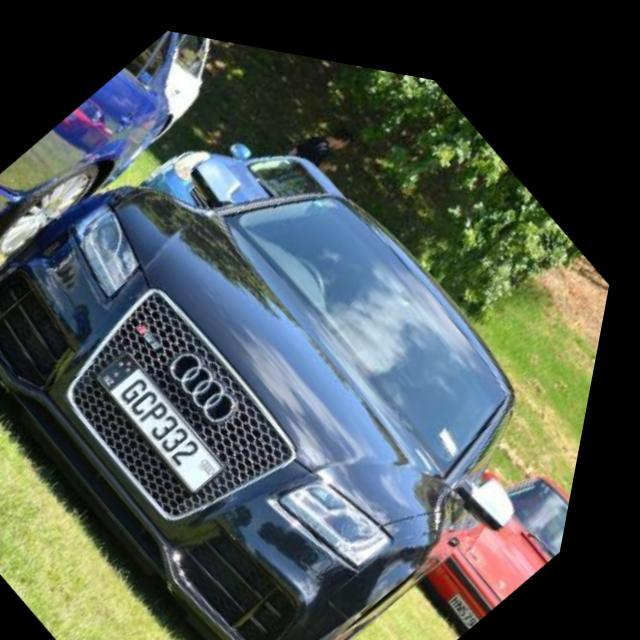license_plate: (95, 339, 256, 486), (460, 568, 504, 610)
